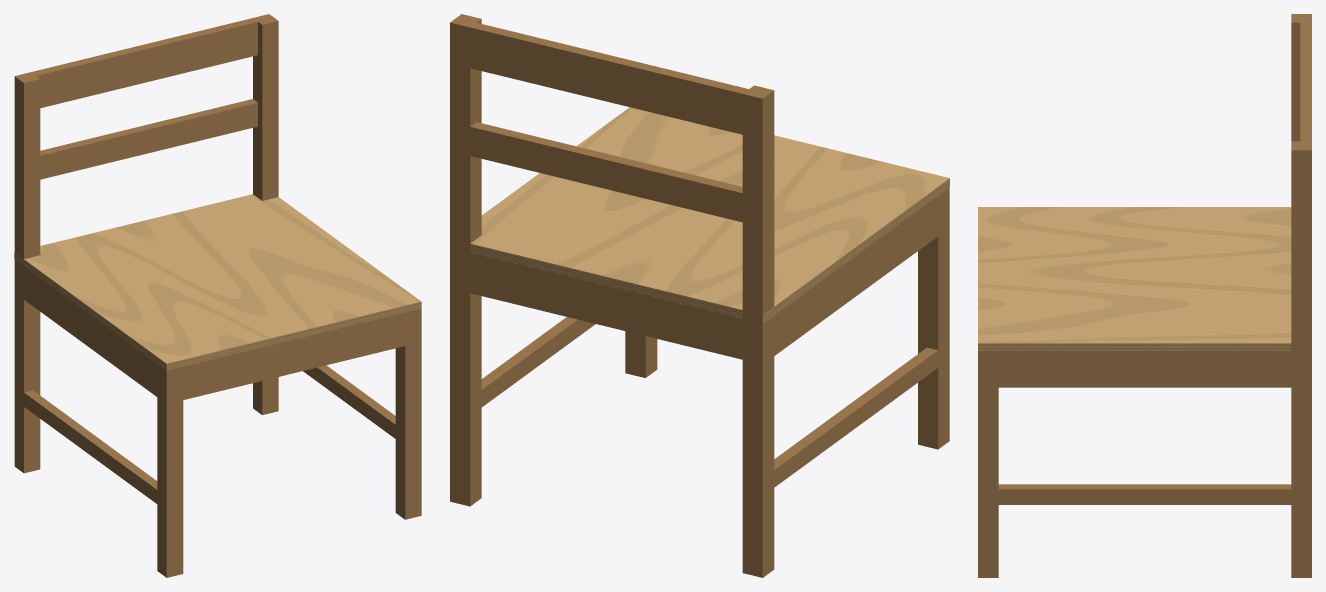
File: HIN-ACC-std.glb
The picture shows the model from 3 angles, left to right: view 1: azimuth 30°, elevation 25°; view 2: azimuth 150°, elevation 25°; view 3: azimuth 270°, elevation 25°; orthographic projection. The views are drawn at different scales.
Visible parts, largest first — view 1: seat:sheet:eyJtIjoicGx5Iiwic2lkZSI6ImZhY2UiLCJzZWVkIjo2LCJ2Z, leg-bl:pbr, back-top:pbr, rail-f:pbr, back-mid:pbr, leg-fl:pbr, leg-br:pbr, leg-fr:pbr, rail-l:pbr, stretcher-l:pbr, seat:sheet:eyJtIjoicGx5Iiwic2lkZSI6ImVkZ2UtZW5kIiwic2VlZCI6N, stretcher-r:pbr (+1 smaller); view 2: seat:sheet:eyJtIjoicGx5Iiwic2lkZSI6ImZhY2UiLCJzZWVkIjo2LCJ2Z, leg-bl:pbr, leg-br:pbr, back-top:pbr, rail-b:pbr, back-mid:pbr, rail-l:pbr, leg-fl:pbr, stretcher-l:pbr, stretcher-r:pbr, seat:sheet:eyJtIjoicGx5Iiwic2lkZSI6ImVkZ2UtZW5kIiwic2VlZCI6N, seat:sheet:eyJtIjoicGx5Iiwic2lkZSI6ImVkZ2UtbG9uZyIsInNlZWQiO (+1 smaller); view 3: seat:sheet:eyJtIjoicGx5Iiwic2lkZSI6ImZhY2UiLCJzZWVkIjo2LCJ2Z, rail-r:pbr, leg-br:pbr, stretcher-r:pbr, leg-fr:pbr, seat:sheet:eyJtIjoicGx5Iiwic2lkZSI6ImVkZ2UtbG9uZyIsInNlZWQiO, back-top:pbr, leg-bl:pbr.
Part boxes in pixels (x1,y1,x2,y2): seat:sheet:eyJtIjoicGx5Iiwic2lkZSI6ImZhY2UiLCJzZWVkIjo2LCJ2Z: (24,194,420,363); leg-bl:pbr: (14,72,40,473); back-top:pbr: (31,18,257,108); rail-f:pbr: (183,313,405,399); back-mid:pbr: (40,99,257,179); leg-fl:pbr: (157,364,183,577); leg-br:pbr: (253,14,278,414); leg-fr:pbr: (395,309,421,519); rail-l:pbr: (24,266,157,396); stretcher-l:pbr: (24,390,157,503); seat:sheet:eyJtIjoicGx5Iiwic2lkZSI6ImVkZ2UtZW5kIiwic2VlZCI6N: (166,301,421,370); stretcher-r:pbr: (303,365,395,438); seat:sheet:eyJtIjoicGx5Iiwic2lkZSI6ImZhY2UiLCJzZWVkIjo2LCJ2Z: (470,107,949,309); leg-bl:pbr: (742,85,774,577); leg-br:pbr: (450,14,481,506); back-top:pbr: (470,22,748,134); rail-b:pbr: (470,252,742,359); back-mid:pbr: (470,122,742,222); rail-l:pbr: (774,196,938,355); leg-fl:pbr: (918,187,949,449); stretcher-l:pbr: (774,347,938,487); stretcher-r:pbr: (481,317,595,407); seat:sheet:eyJtIjoicGx5Iiwic2lkZSI6ImVkZ2UtZW5kIiwic2VlZCI6N: (470,243,742,318); seat:sheet:eyJtIjoicGx5Iiwic2lkZSI6ImVkZ2UtbG9uZyIsInNlZWQiO: (763,178,949,323); seat:sheet:eyJtIjoicGx5Iiwic2lkZSI6ImZhY2UiLCJzZWVkIjo2LCJ2Z: (978,207,1291,343); rail-r:pbr: (998,351,1291,387); leg-br:pbr: (1291,141,1311,577); stretcher-r:pbr: (998,484,1291,504); leg-fr:pbr: (978,351,998,577); seat:sheet:eyJtIjoicGx5Iiwic2lkZSI6ImVkZ2UtbG9uZyIsInNlZWQiO: (978,343,1291,350); back-top:pbr: (1300,22,1311,141); leg-bl:pbr: (1291,14,1311,141).
Size of the model in its own units: 0.5601 by 0.82 by 0.58.
15 materials, 3 textured.
